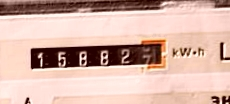1: (35, 51, 45, 67)
2: (119, 47, 130, 64)
5: (56, 50, 67, 66)
7: (142, 53, 151, 64)
8: (77, 50, 88, 67), (98, 49, 109, 66)
screen: (23, 34, 172, 79)
